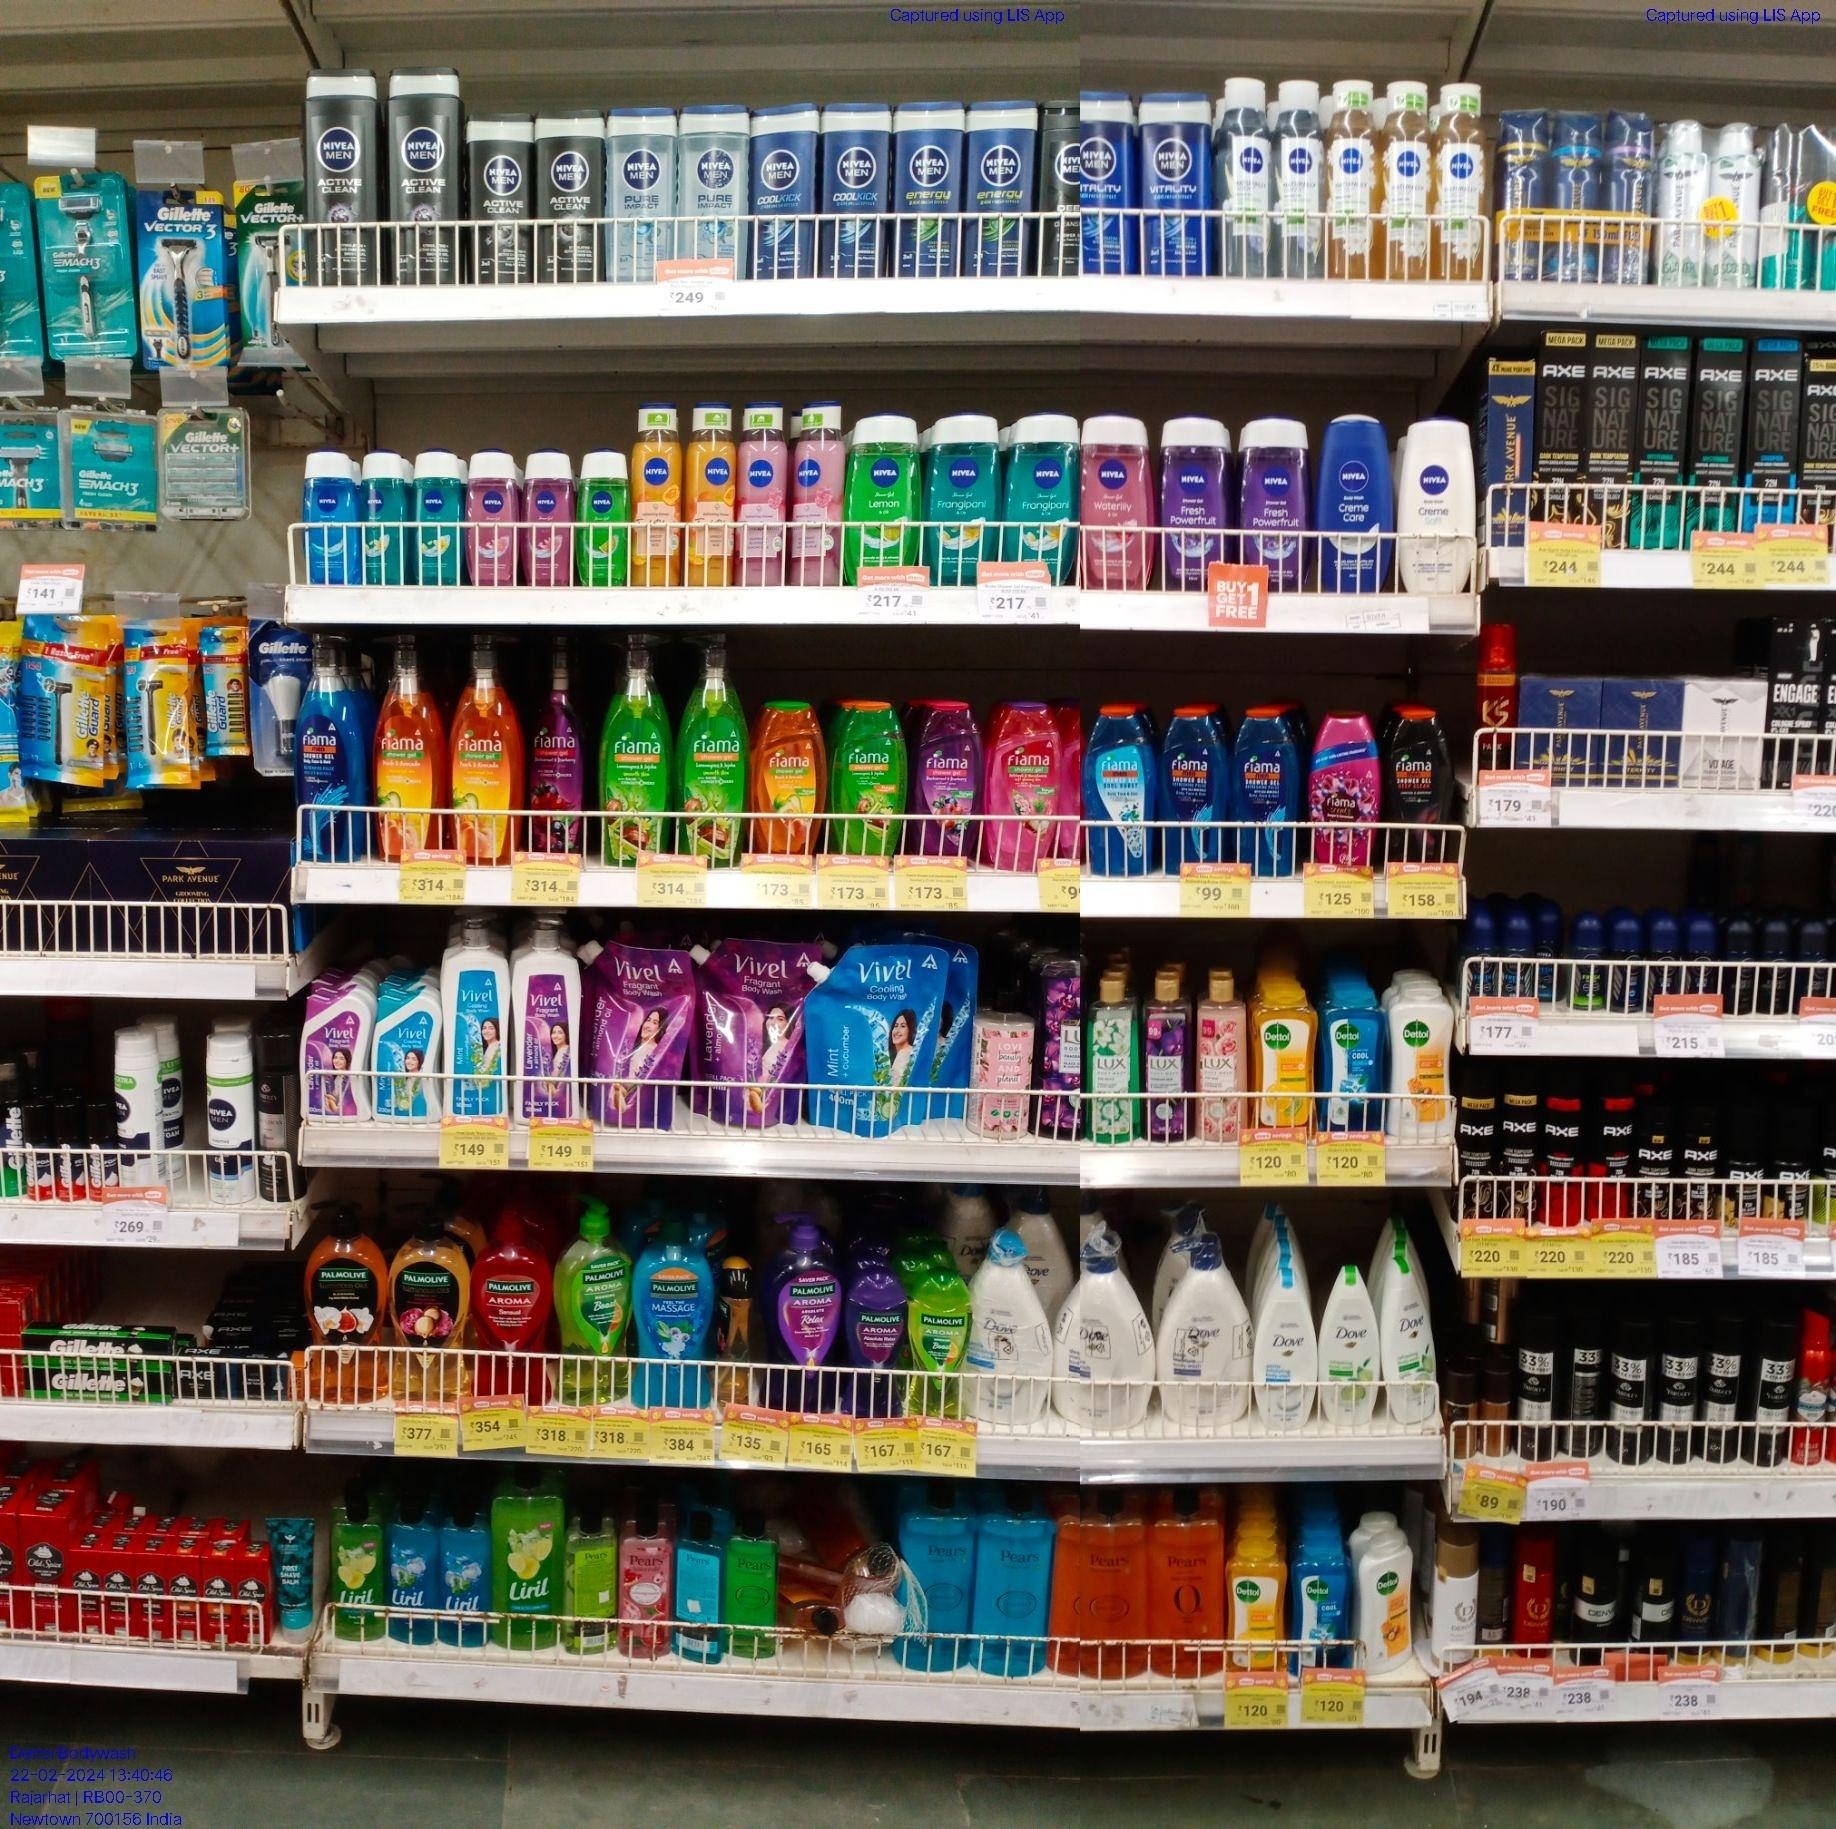Dettol_Bodywash_Cool: (1327, 988, 1385, 1134), (1303, 1541, 1347, 1672)
Dettol_Bodywash_Refresh: (1250, 987, 1317, 1122), (1228, 1534, 1285, 1660)
Dettol_Nourish_Body_Wash_250ML: (1390, 983, 1447, 1144), (1354, 1531, 1417, 1660)
Dove_Gentle_Exfoliating_Body_Wash_250ML: (1253, 1276, 1313, 1434)
Dove_Refreshing_Body_Wash_250ML: (1317, 1261, 1385, 1429), (1387, 1248, 1442, 1424)
Fiama_Shower_Gel_Lemongrass_and_Jojoba_250ML: (833, 698, 906, 849)
Fiama_Shower_Gel_Patchouli_and_Macadamia_250ML: (977, 695, 1055, 868)
Fiama_Shower_Gel_Peach_and_Avocado_250ML: (754, 697, 826, 853)
Liril_Cooling_Mint_Body_Wash_250ML: (387, 1511, 441, 1648), (436, 1511, 489, 1646)
Liril_Lime_and_Tea_Tree_Oil_Body_Wash_250ML: (330, 1506, 384, 1638)
Lux_Black_Orchid_Scent_and_Juniper_Oil_Body_Wash_245ML: (1146, 971, 1194, 1144)
Lux_Body_Wash_Skin_Detox_Freesia_Scent_and_Alove_Vera_245ML: (1091, 978, 1142, 1147)
Nivea_Creme_Care_Body_Wash_250ML: (1317, 412, 1395, 596)
Nivea_Creme_Soft_Body_Wash_250ML: (1404, 414, 1472, 593)
Nivea_Shower_Gel_Frangipani_and_Oil_250ML: (997, 412, 1072, 551), (925, 415, 997, 558)
Nivea_Shower_Gel_Fresh_Powerfruit_250ML: (1159, 415, 1233, 566), (1235, 420, 1297, 583)
Nivea_Shower_Gel_Lemon_and_Oil_250ML: (849, 415, 920, 571)
Nivea_Shower_Gel_Waterlily_and_Oil_250ML: (1080, 412, 1149, 593)
Palmolive_Aroma_Morning_Tonic_Shower_Gel_250ML: (908, 1278, 968, 1424)
Palmolive_Aroma_Relax_250ML: (844, 1283, 906, 1422)
